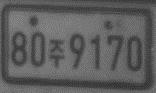0: (126, 35, 145, 73), (30, 31, 46, 67)
1: (89, 34, 102, 70)
7: (106, 35, 125, 71)
8: (11, 31, 28, 66)
9: (68, 32, 86, 69)
주: (47, 37, 66, 69)
